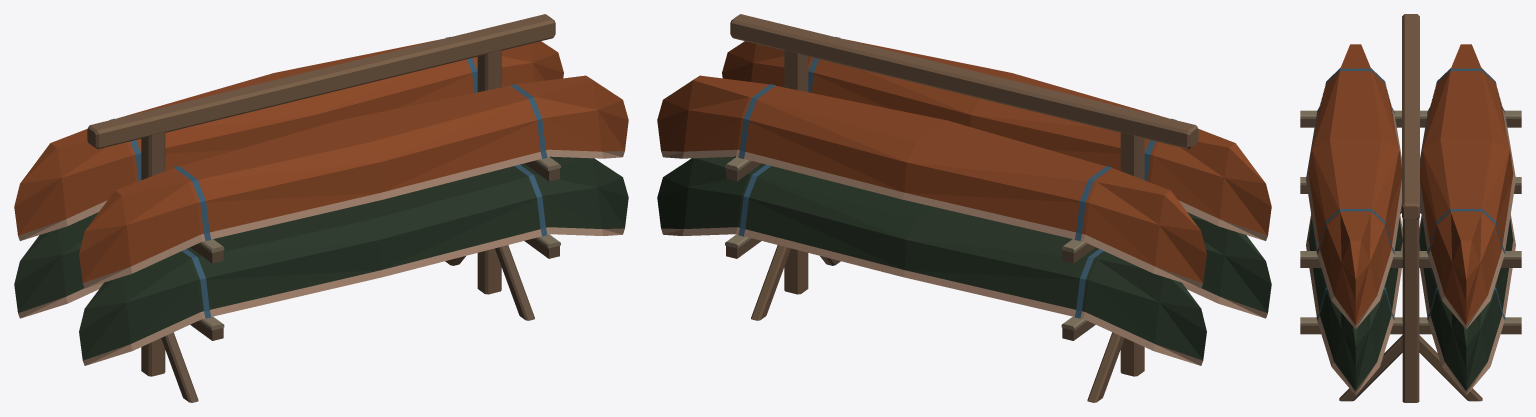
The model's file is canoe_rack.glb.
The picture shows the model from 3 angles, left to right: view 1: azimuth 30°, elevation 25°; view 2: azimuth 150°, elevation 25°; view 3: azimuth 270°, elevation 25°; orthographic projection. The views are drawn at different scales.
Visible parts, largest first — view 1: canoe-3-mesh, canoe-1-mesh, canoe-4-mesh, rack, canoe-2-mesh; view 2: canoe-4-mesh, canoe-2-mesh, canoe-3-mesh, rack, canoe-1-mesh; view 3: canoe-3-mesh, canoe-4-mesh, rack, canoe-1-mesh, canoe-2-mesh.
Part boxes in pixels (x1,y1,x2,y2): canoe-3-mesh: (79,75,628,288); canoe-1-mesh: (79,157,628,365); canoe-4-mesh: (14,37,563,240); rack: (87,14,560,402); canoe-2-mesh: (14,156,552,318); canoe-4-mesh: (657,75,1206,288); canoe-2-mesh: (657,157,1206,365); canoe-3-mesh: (722,37,1271,240); rack: (725,14,1198,402); canoe-1-mesh: (733,156,1271,318); canoe-3-mesh: (1306,44,1401,329); canoe-4-mesh: (1420,44,1515,329); rack: (1300,14,1521,402); canoe-1-mesh: (1306,214,1402,395); canoe-2-mesh: (1419,214,1515,395).
Size of the model in its own units: 4.9 by 2.2 by 2.
